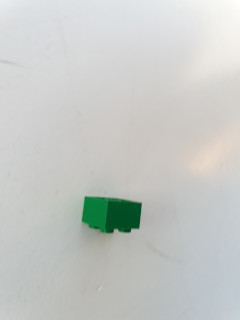2x2 green: (81, 193, 142, 234)
